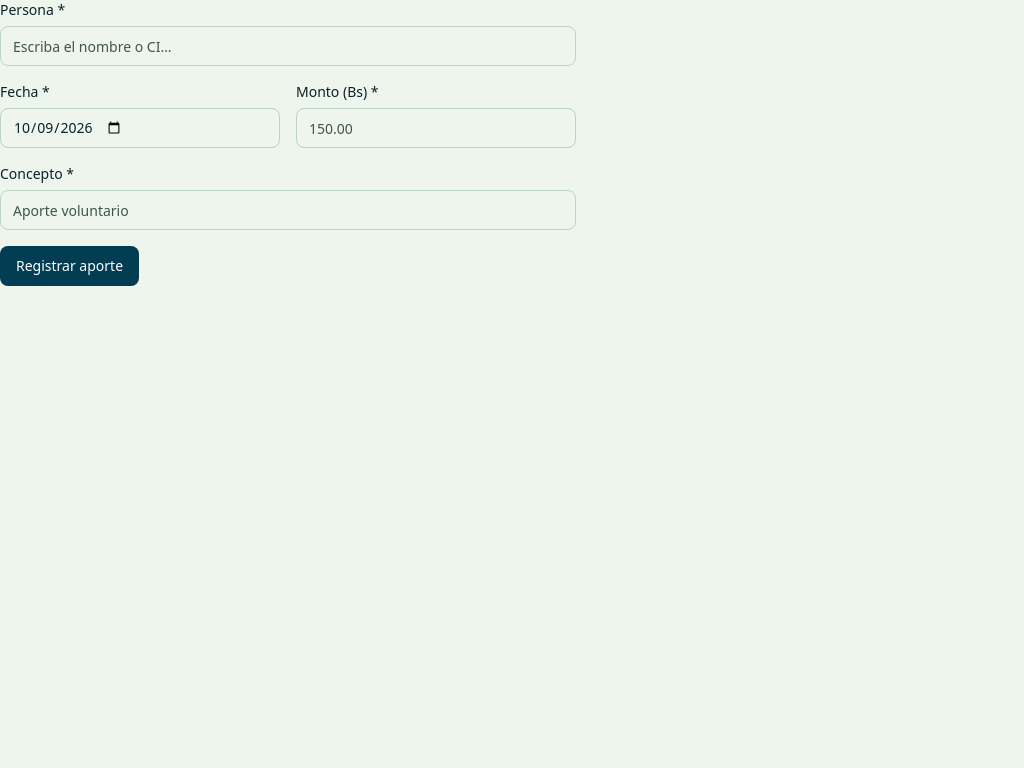
Test: PersonaSelector registro rápido › funciona dentro del formulario de aporte (sin interferencia del form exterior)
In the dropdown named "Buscar persona por nombre o CI": point(288, 46) [0,26,576,66], type "CRISTIAN MARCELO PIZARROSO"
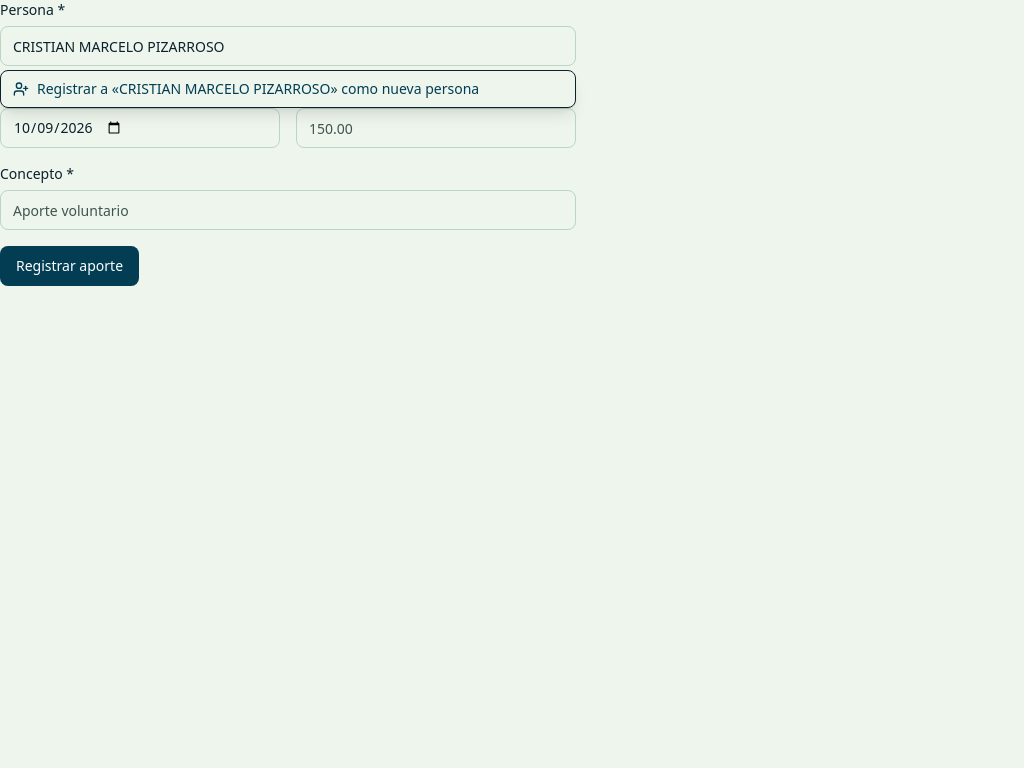
Click the button "Registrar a «CRISTIAN MARCELO PIZARROSO» como nueva persona": point(288, 89) [1,71,575,107]
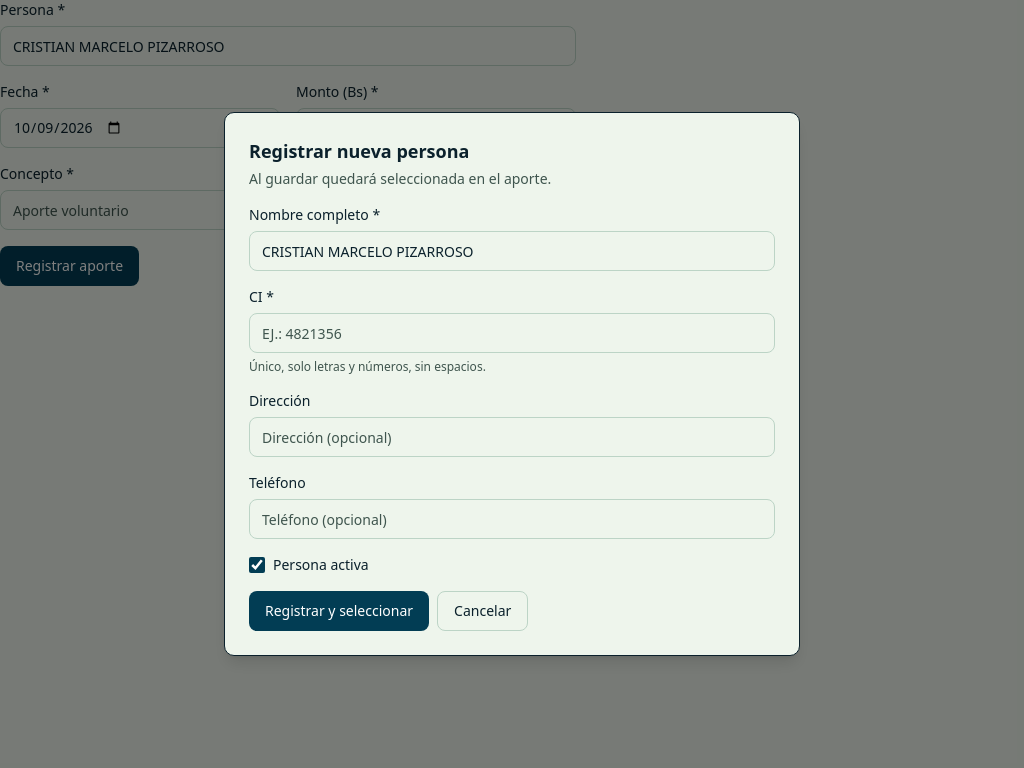
In the field labelled "CI *": point(512, 333) [249,313,775,353], type "9988776"
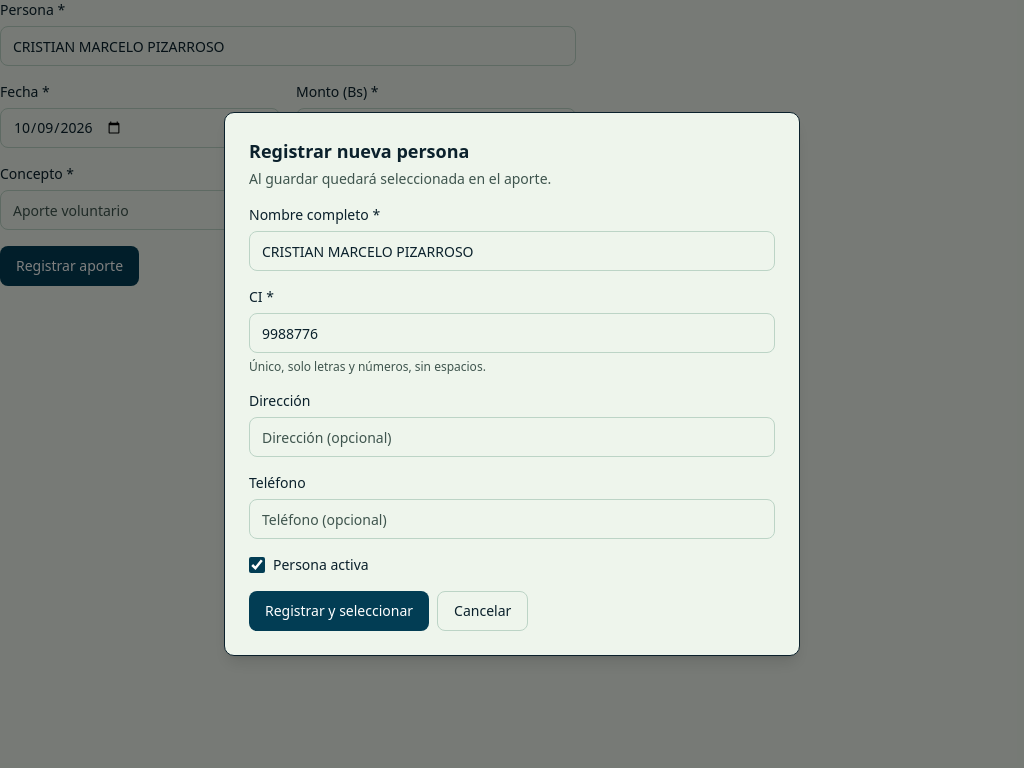
Click the button "Registrar y seleccionar": point(339, 611) [249,591,429,631]
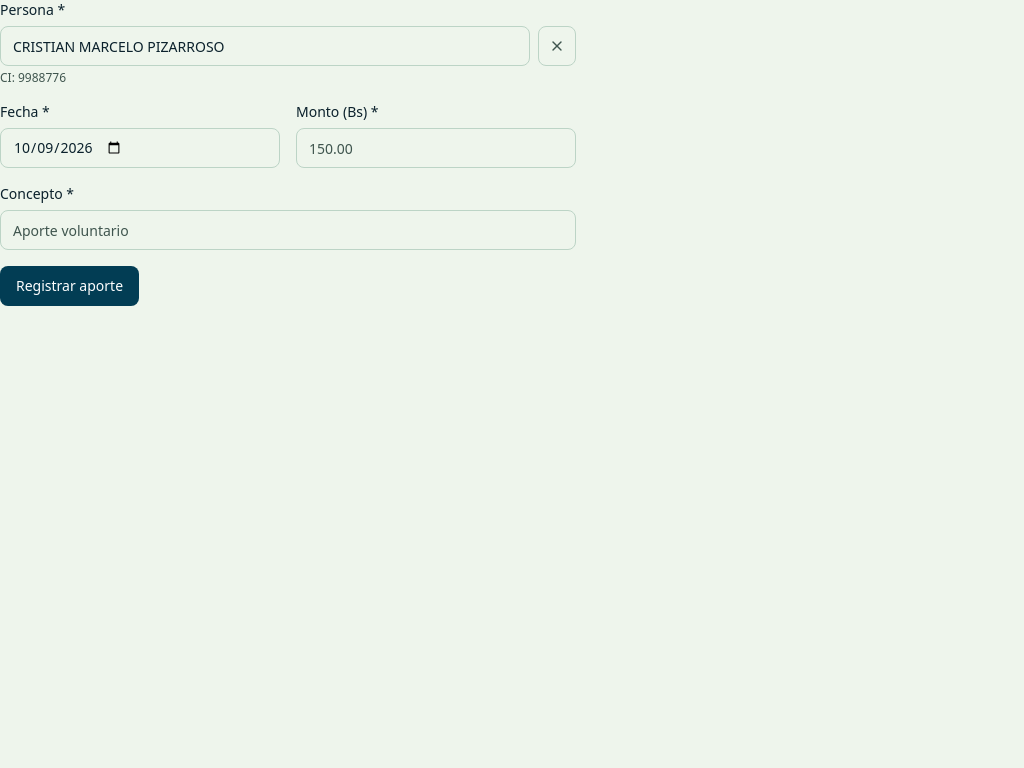
Now the text "CI: 9988776" is shown, box [0,69,66,86]
